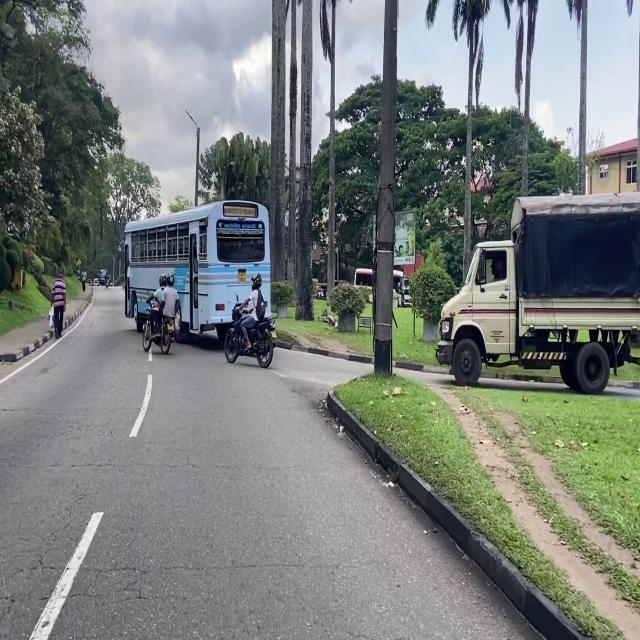bus: (123, 200, 270, 341), (354, 268, 409, 306)
motorcycle: (224, 303, 274, 368), (143, 301, 174, 354), (105, 281, 109, 287)
person: (241, 273, 266, 351), (155, 273, 178, 338), (148, 274, 166, 333), (52, 273, 66, 338), (81, 271, 86, 292), (105, 272, 109, 281)
truck: (436, 194, 640, 394)
van: (98, 269, 105, 284), (93, 277, 98, 286)
